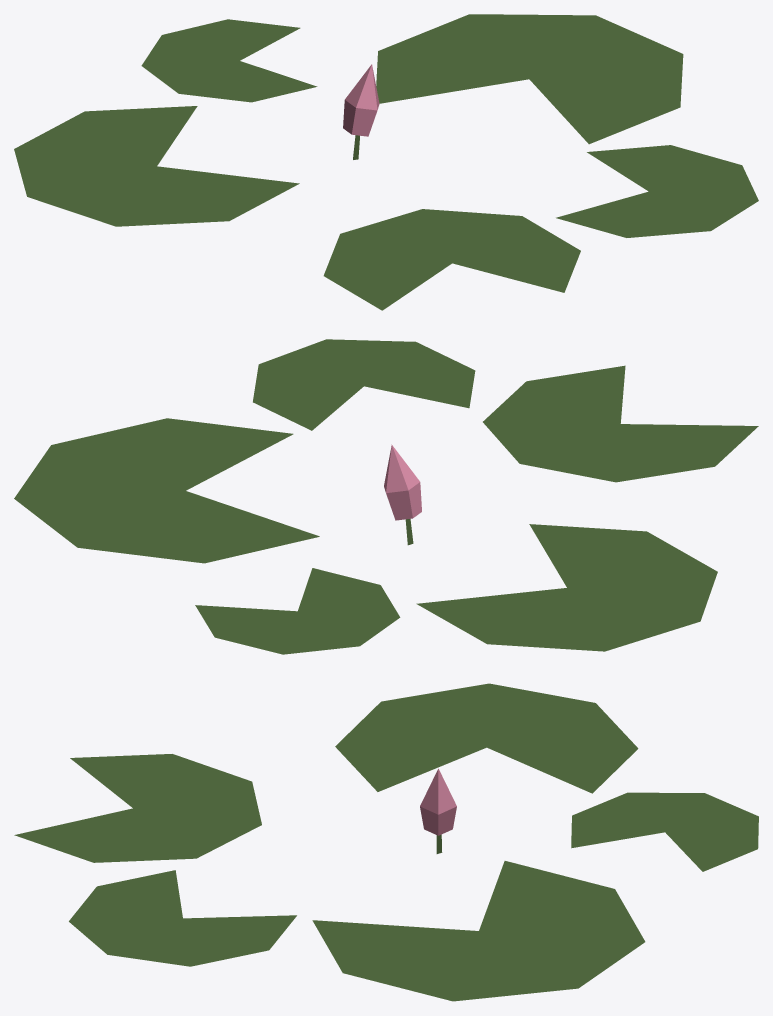
Rendered from lily_cluster_c.glb.
The picture shows the model from 3 angles, top to bottom: view 1: azimuth 30°, elevation 25°; view 2: azimuth 150°, elevation 25°; view 3: azimuth 270°, elevation 25°; orthographic projection. The views are drawn at different scales.
Parts seen in each view (by area): view 1: lily_cluster_c_lod0; view 2: lily_cluster_c_lod0; view 3: lily_cluster_c_lod0.
Boxes of the visible parts, x1,y1,x2,y2 form: lily_cluster_c_lod0: (14,14,758,310); lily_cluster_c_lod0: (14,339,758,654); lily_cluster_c_lod0: (14,683,758,1001).
Size of what is drawn, in the model's own units: 2.23 by 0.3051 by 2.21.
